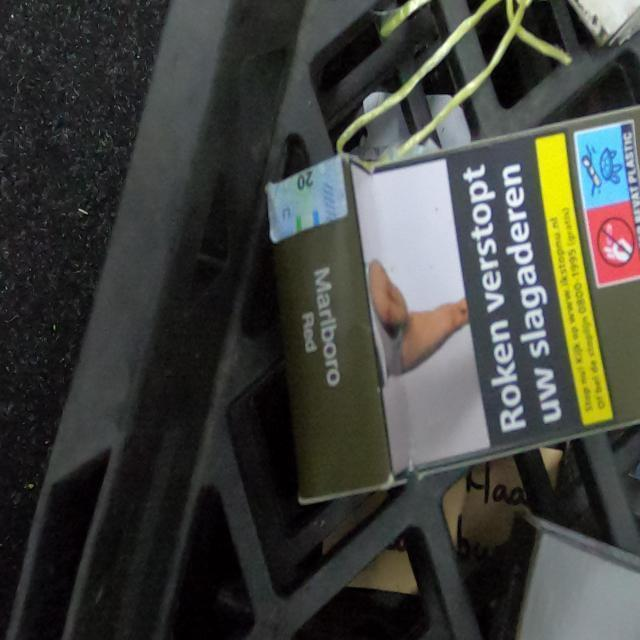Paper: (265, 105, 640, 512)
